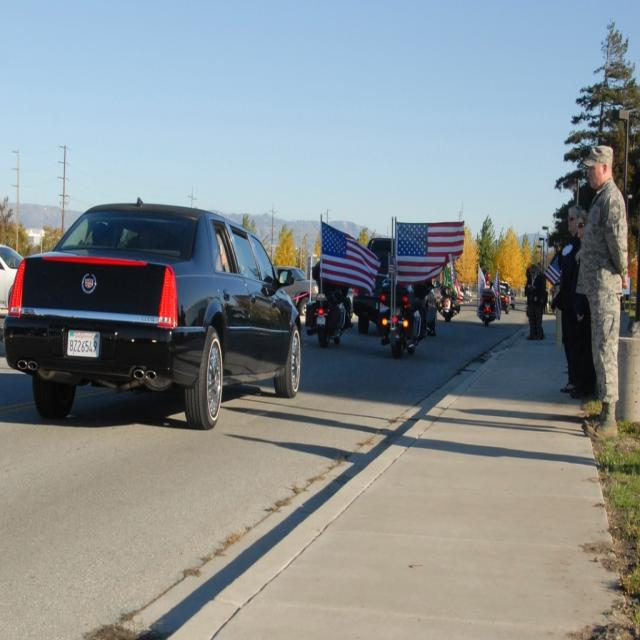car: (0, 199, 301, 426)
